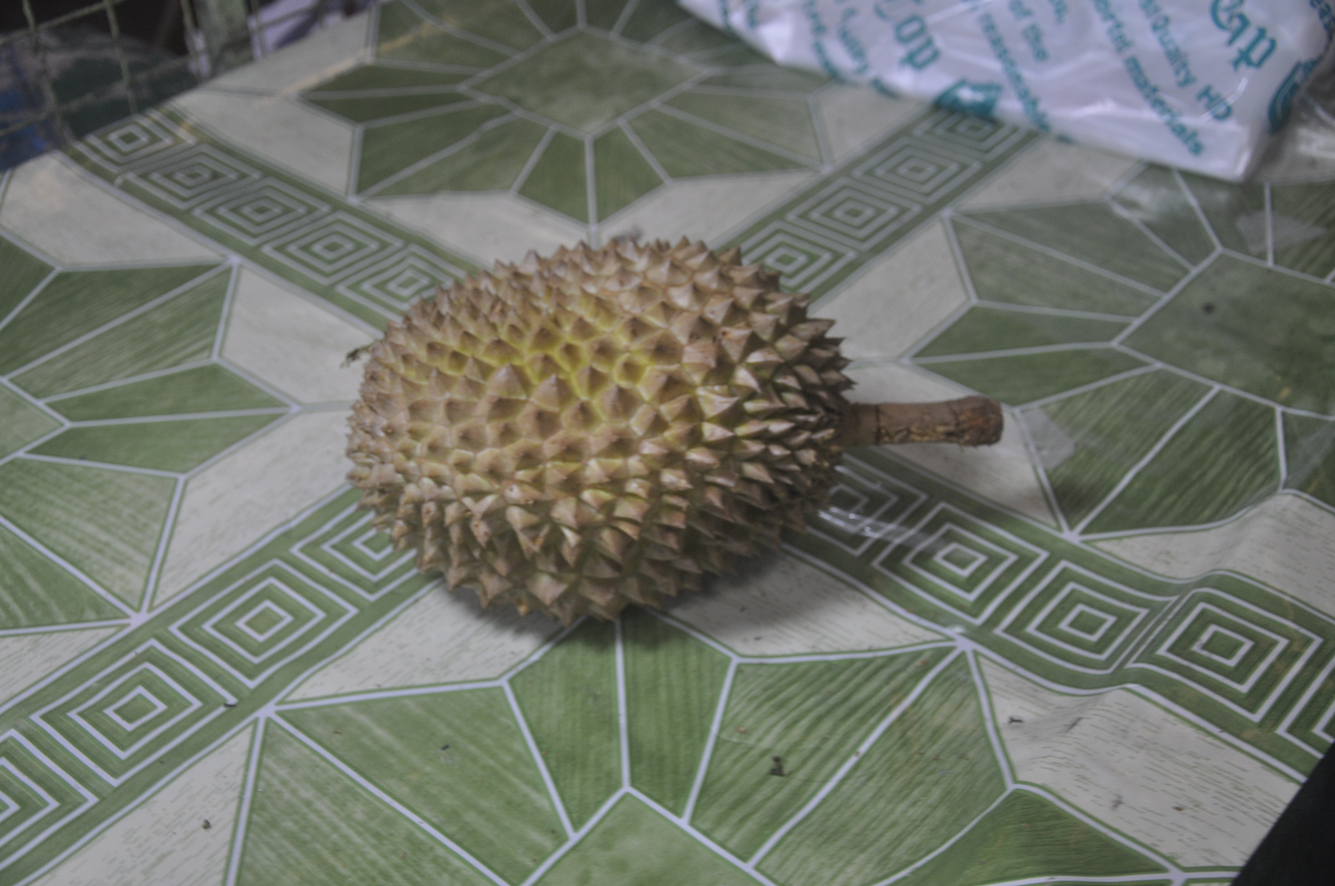mature: (347, 232, 1002, 623)
